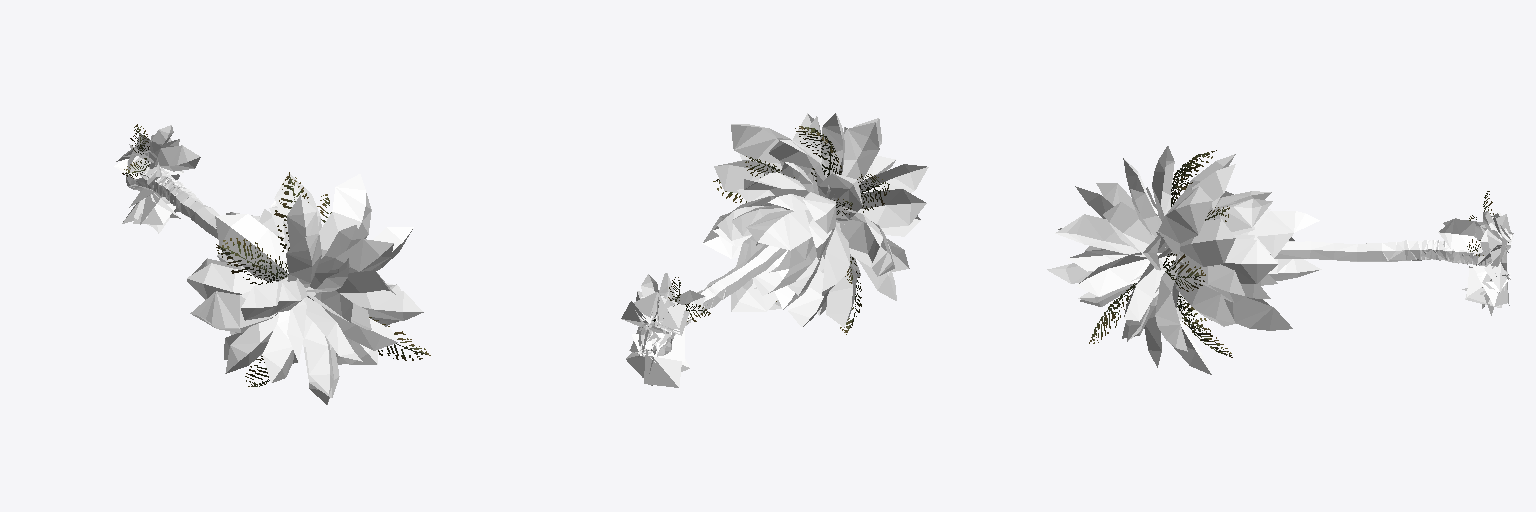
3 views of the same model, side by side, from view 1: azimuth 30°, elevation 25°; view 2: azimuth 150°, elevation 25°; view 3: azimuth 270°, elevation 25° (orthographic).
Parts seen in each view (by area): view 1: tdr_v_palm_b; view 2: tdr_v_palm_b; view 3: tdr_v_palm_b.
Part boxes in pixels (x1,y1,x2,y2): tdr_v_palm_b: (114, 124, 430, 404); tdr_v_palm_b: (621, 113, 928, 387); tdr_v_palm_b: (1047, 146, 1513, 374).
Size of the model in its own units: 3173 by 3370 by 6641.
Materials: 5 (1 with a texture image).